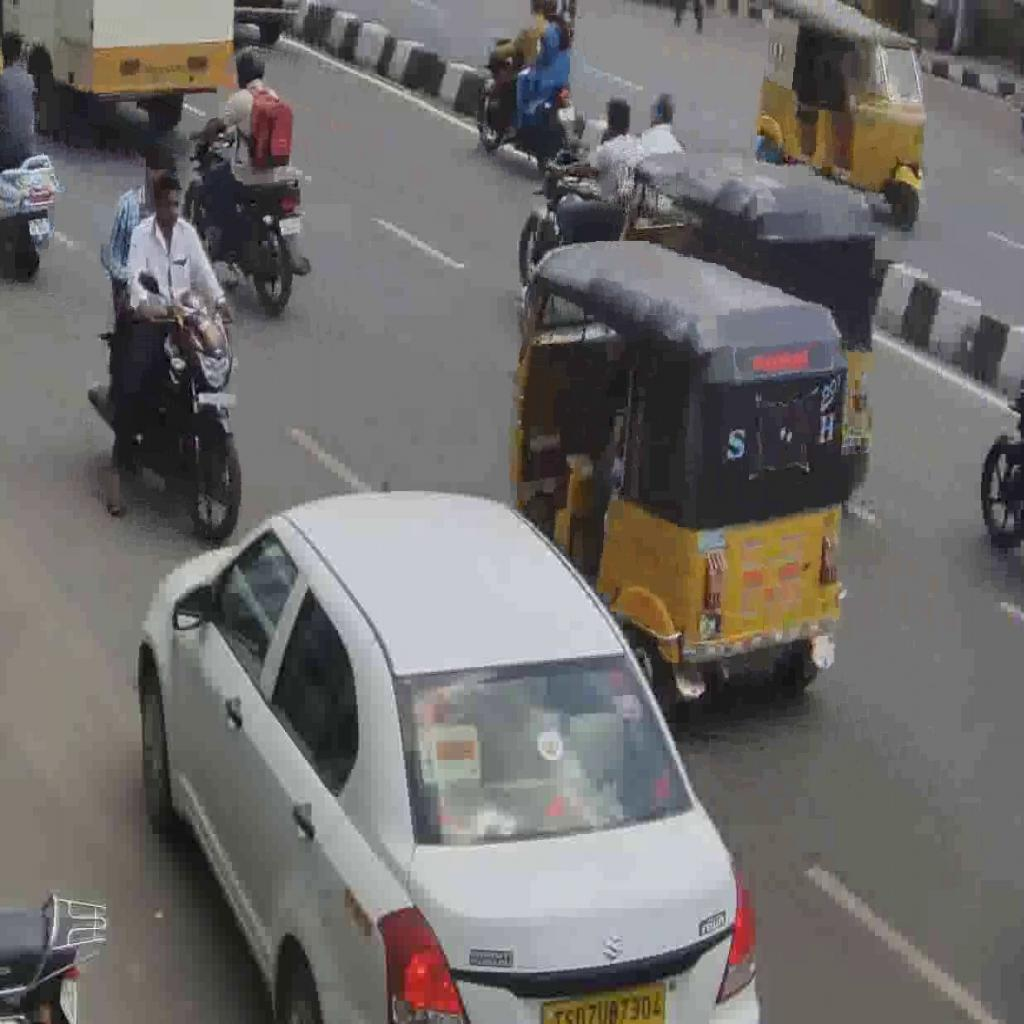bike: (88, 256, 244, 544), (183, 114, 312, 317), (517, 144, 629, 286), (476, 33, 587, 172), (0, 155, 58, 281)
helmet: (234, 46, 266, 89)
lisc: (198, 390, 236, 406), (279, 216, 301, 236), (28, 218, 50, 236), (557, 106, 575, 122)
no_helmet: (144, 141, 176, 196), (153, 171, 180, 229), (605, 93, 633, 139), (648, 89, 677, 129), (0, 29, 24, 68)
rider: (108, 171, 235, 478), (188, 46, 294, 250), (100, 142, 178, 372), (544, 94, 642, 244), (615, 88, 684, 218), (508, 0, 572, 130), (491, 0, 547, 142), (0, 30, 38, 171)
